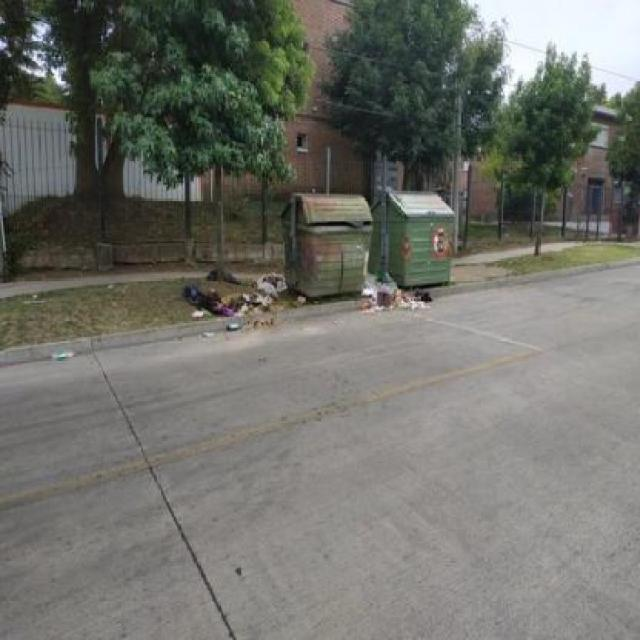garbage: (189, 266, 296, 332), (360, 268, 424, 320)
